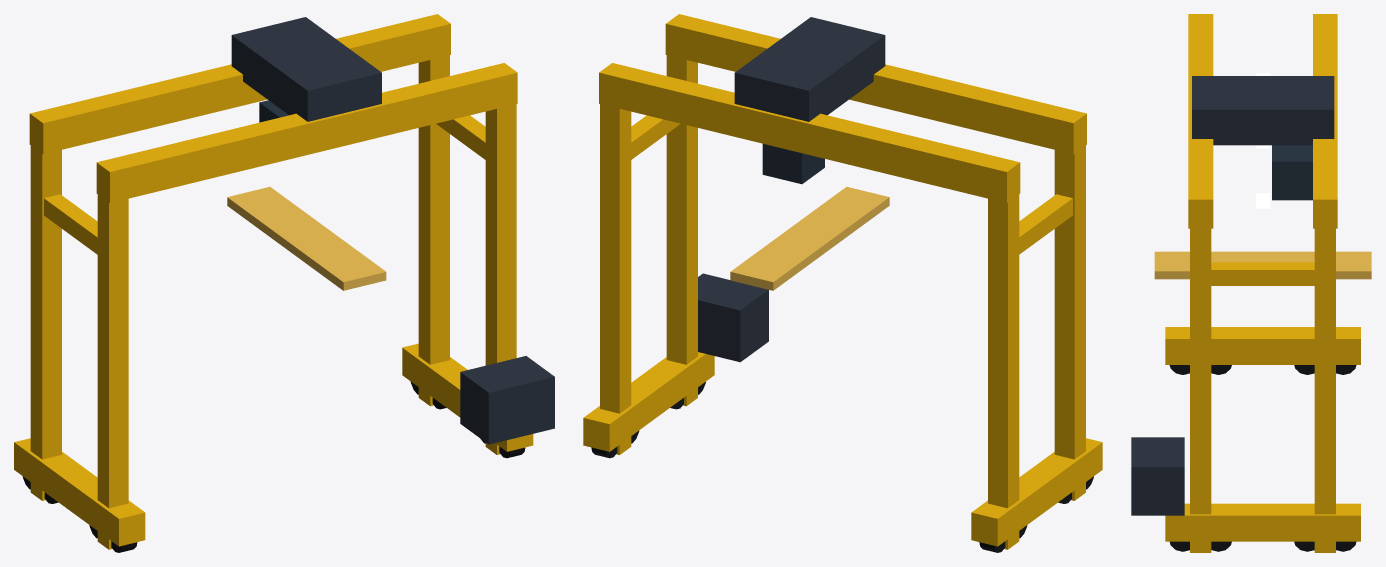
File: rtg_crane.glb
3 renders of one model, left to right at view 1: azimuth 30°, elevation 25°; view 2: azimuth 150°, elevation 25°; view 3: azimuth 270°, elevation 25°, orthographic. The views are drawn at different scales.
Visible parts, largest first — view 1: rtg; view 2: rtg; view 3: rtg.
Part boxes in pixels (x1,y1,x2,y2): rtg: (14, 14, 554, 552); rtg: (583, 14, 1102, 552); rtg: (1131, 14, 1371, 552).
Size of the model in its own units: 25.3 by 23.7 by 13.5.
